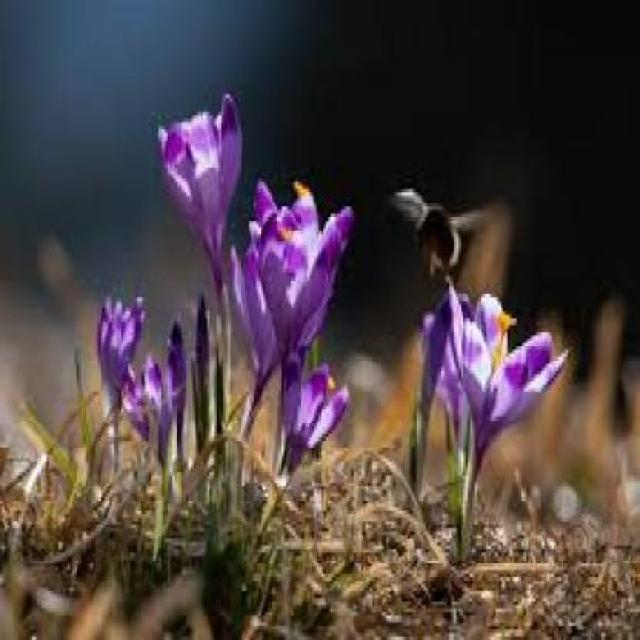Flower: (448, 282, 572, 456), (149, 97, 245, 268), (260, 212, 342, 376)
